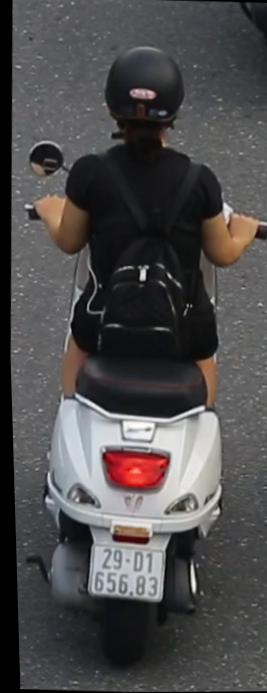LP: (80, 538, 165, 611)
helmet: (99, 37, 191, 156)
